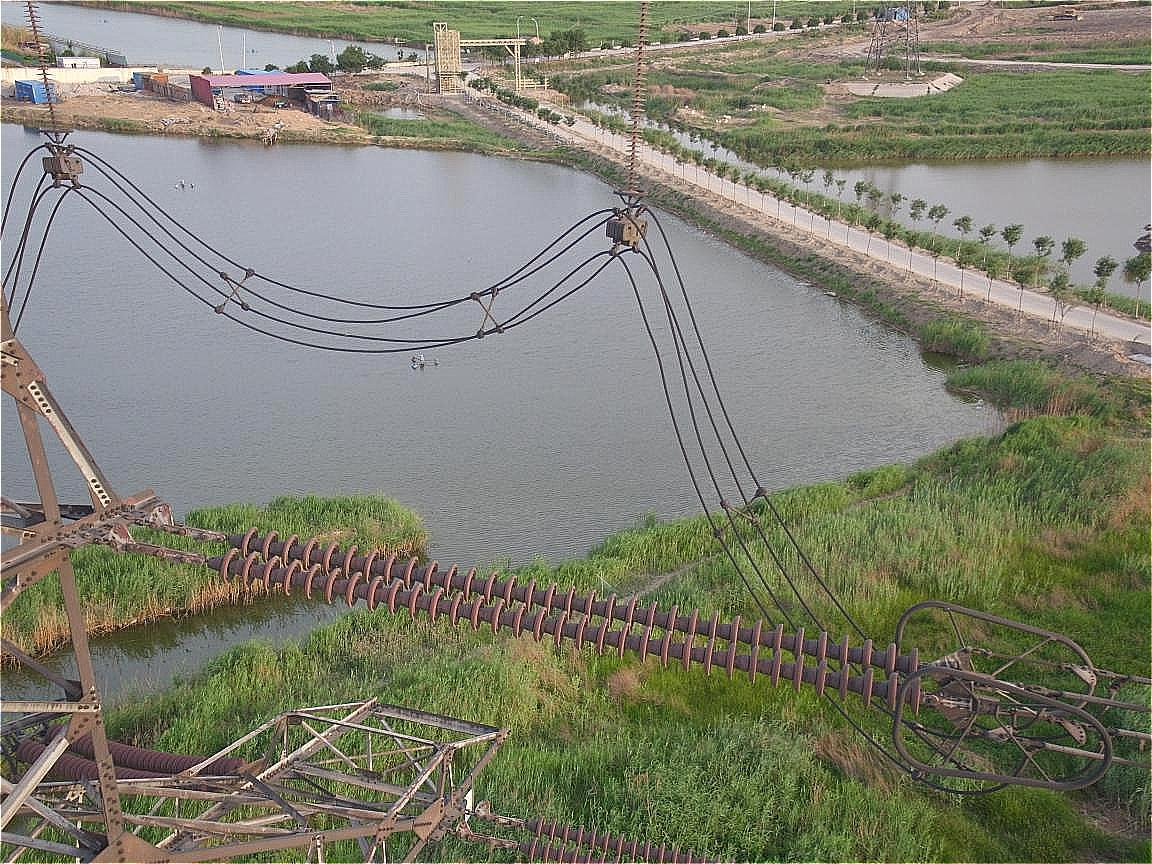insultor1: (199, 521, 936, 718), (19, 1, 72, 128)
